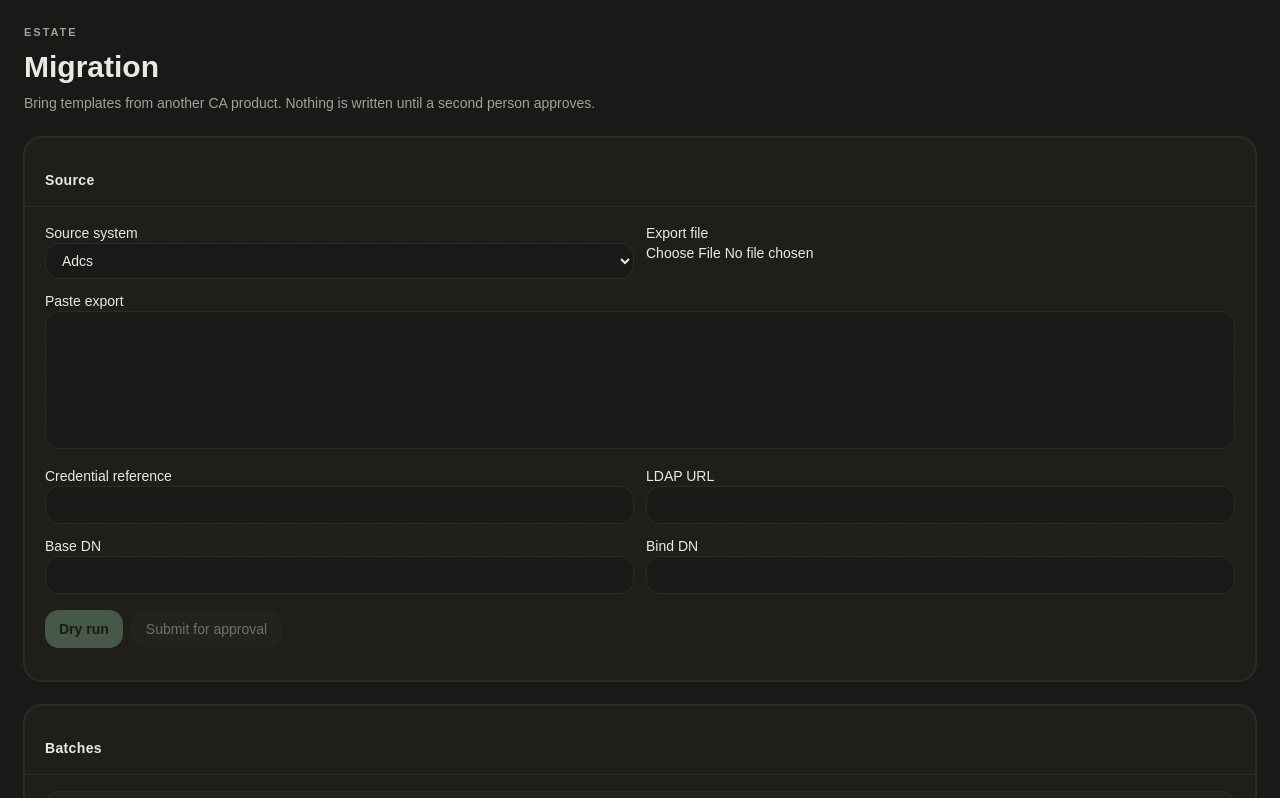
Test: Migration › submit stays disabled when the dry run would create nothing
Select "Vault" in the dropdown labelled "Source system" at x=340, y=260, box [45, 242, 634, 278]
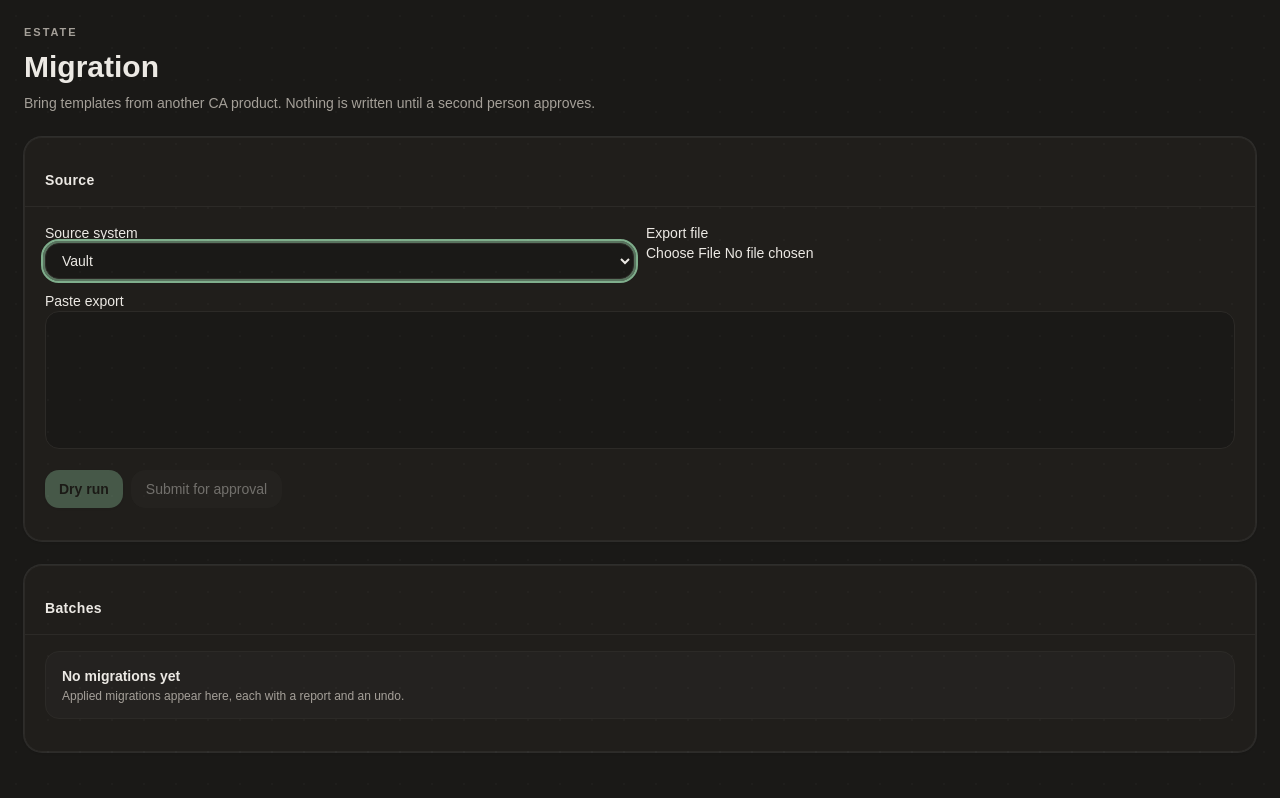
Type "abc" into the text box labelled "Paste export" at x=640, y=380, box [45, 310, 1235, 448]
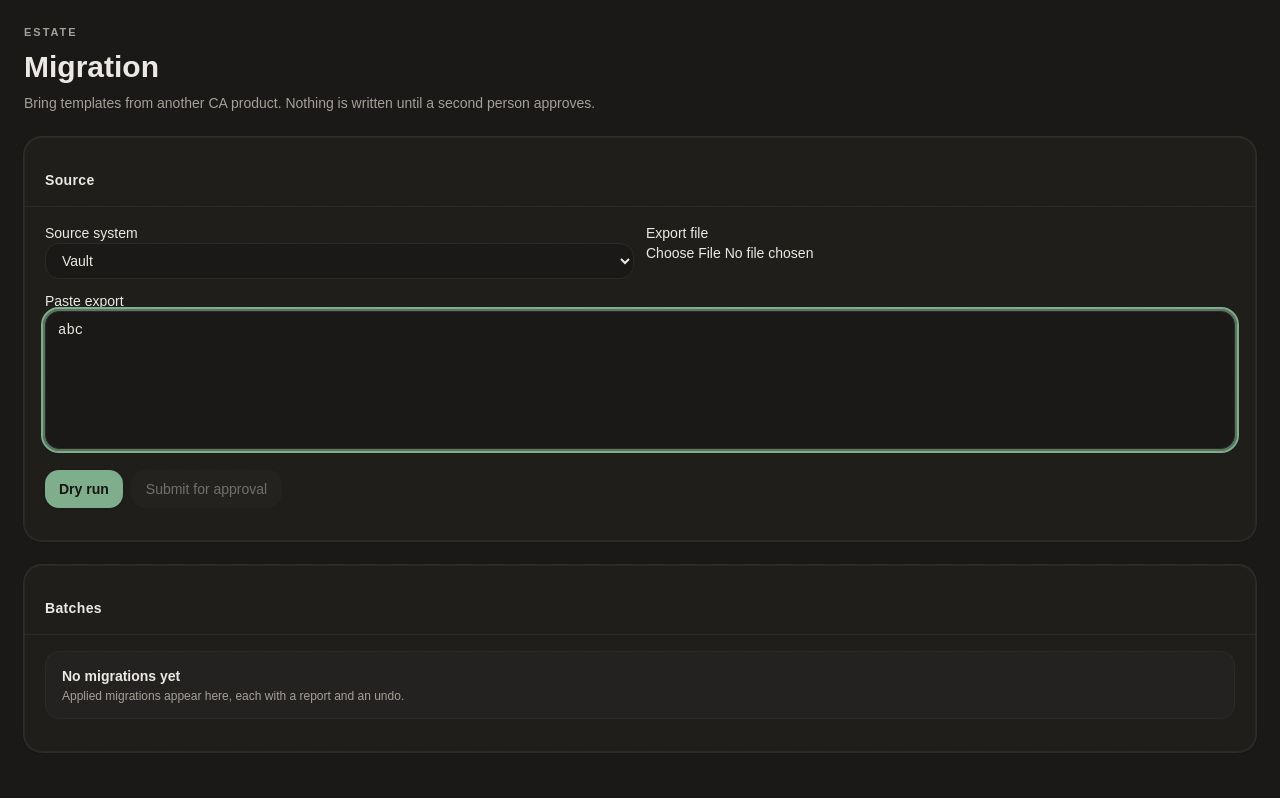
Click the button "Dry run" at x=84, y=488, box [45, 470, 123, 508]
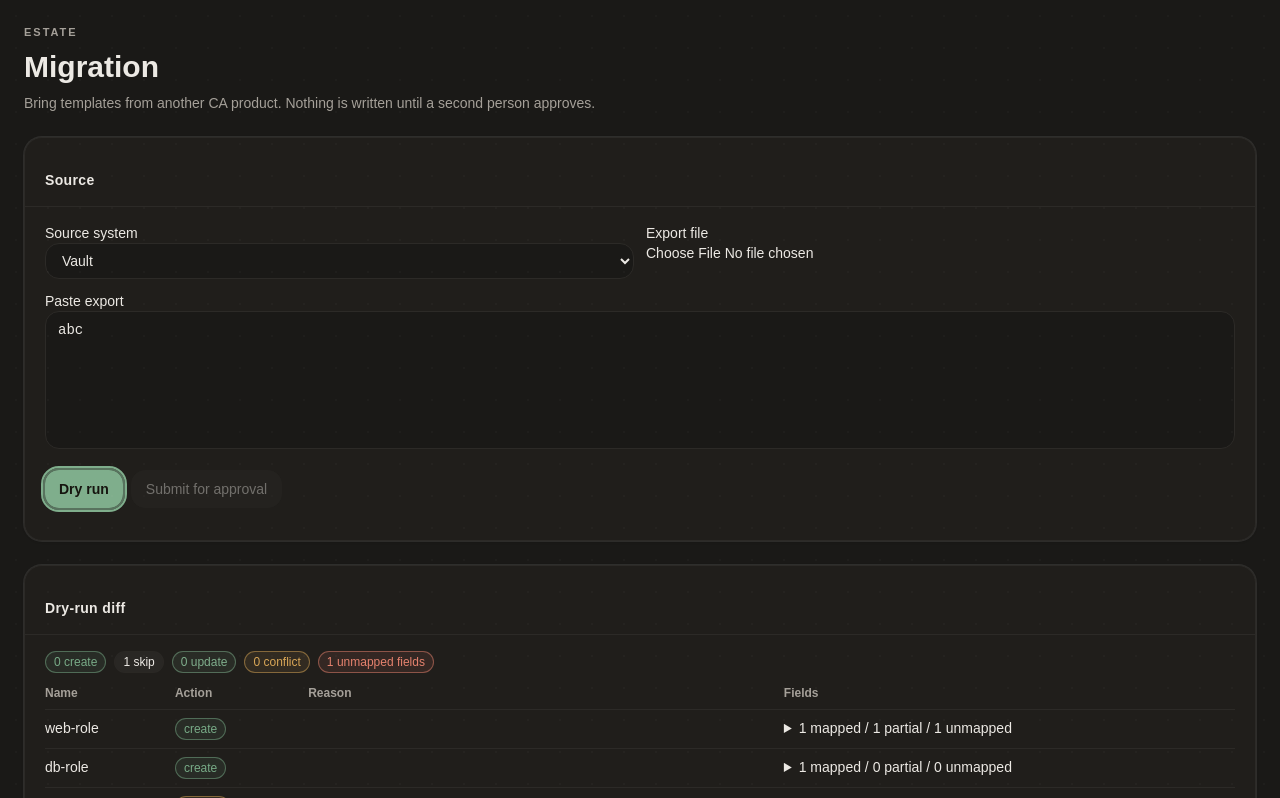
Expected: the button "Submit for approval" is disabled, [131, 470, 282, 508]
Now the text "0 create" is shown, box [45, 650, 106, 672]
